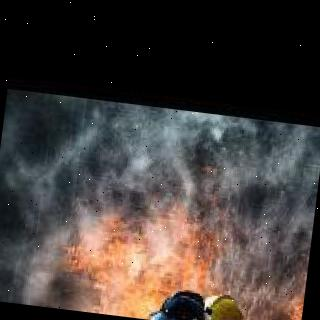fire: (67, 186, 227, 310), (245, 256, 308, 320)
